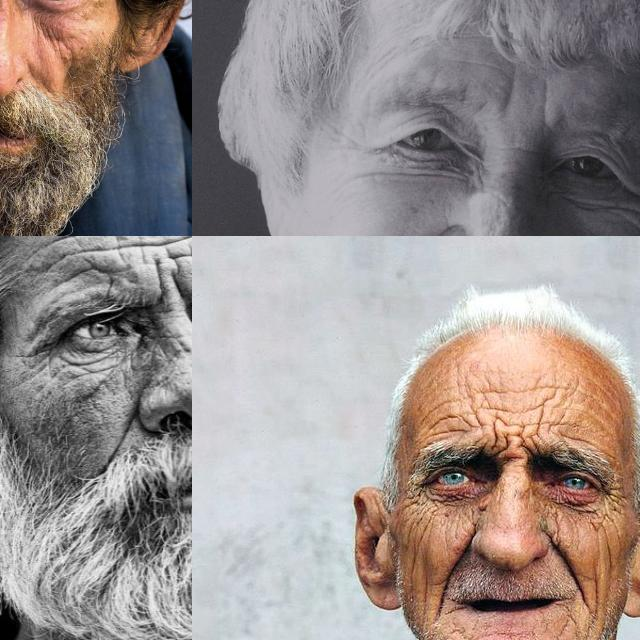bunny_line: (544, 507, 564, 541), (468, 507, 484, 531)
chin: (549, 616, 573, 640), (490, 627, 533, 640), (448, 623, 475, 640)
crows_feet: (328, 128, 372, 156), (26, 336, 64, 368), (626, 178, 640, 228), (408, 480, 428, 510), (604, 483, 624, 513)
forehead: (533, 376, 575, 428), (109, 236, 154, 277), (53, 236, 99, 275), (469, 386, 503, 424), (424, 402, 462, 436), (162, 236, 192, 260)
frown_line: (150, 270, 188, 304), (490, 434, 534, 456), (536, 85, 554, 129), (501, 72, 517, 120), (503, 141, 539, 159)
gummy_smile: (104, 410, 138, 468), (439, 538, 465, 598), (552, 546, 588, 586), (400, 216, 451, 236)
masseter: (80, 355, 124, 393), (36, 21, 70, 51), (408, 525, 424, 587), (592, 578, 604, 636)
